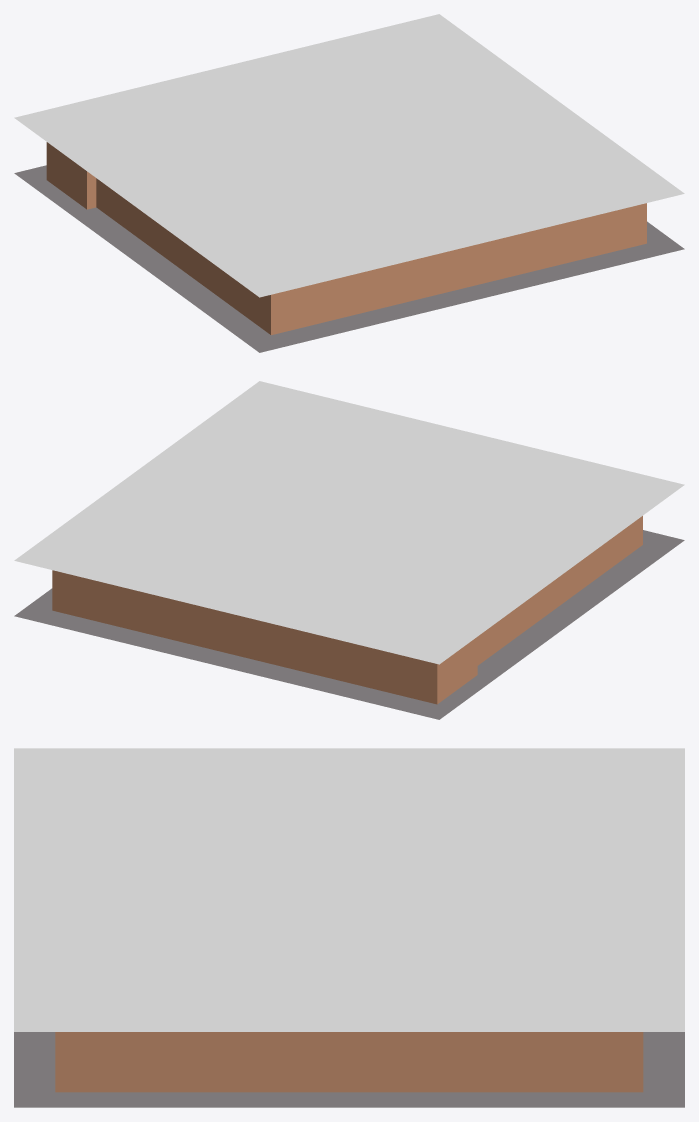
The model's file is Restaurante2.fbx.
The picture shows the model from 3 angles, top to bottom: view 1: azimuth 30°, elevation 25°; view 2: azimuth 150°, elevation 25°; view 3: azimuth 270°, elevation 25°; orthographic projection. The views are drawn at different scales.
Visible parts, largest first — view 1: Techo, Cube.005, Piso; view 2: Techo, Cube.005, Piso; view 3: Techo, Cube.005, Piso.
Part boxes in pixels (x1,y1,x2,y2): Techo: (14, 14, 684, 297); Cube.005: (46, 142, 646, 335); Piso: (14, 165, 684, 352); Techo: (14, 381, 684, 664); Cube.005: (52, 516, 642, 704); Piso: (14, 530, 684, 719); Techo: (14, 748, 684, 1031); Cube.005: (55, 1032, 643, 1092); Piso: (14, 1032, 684, 1107).
Size of the model in its own units: 2872 by 382 by 2872.
